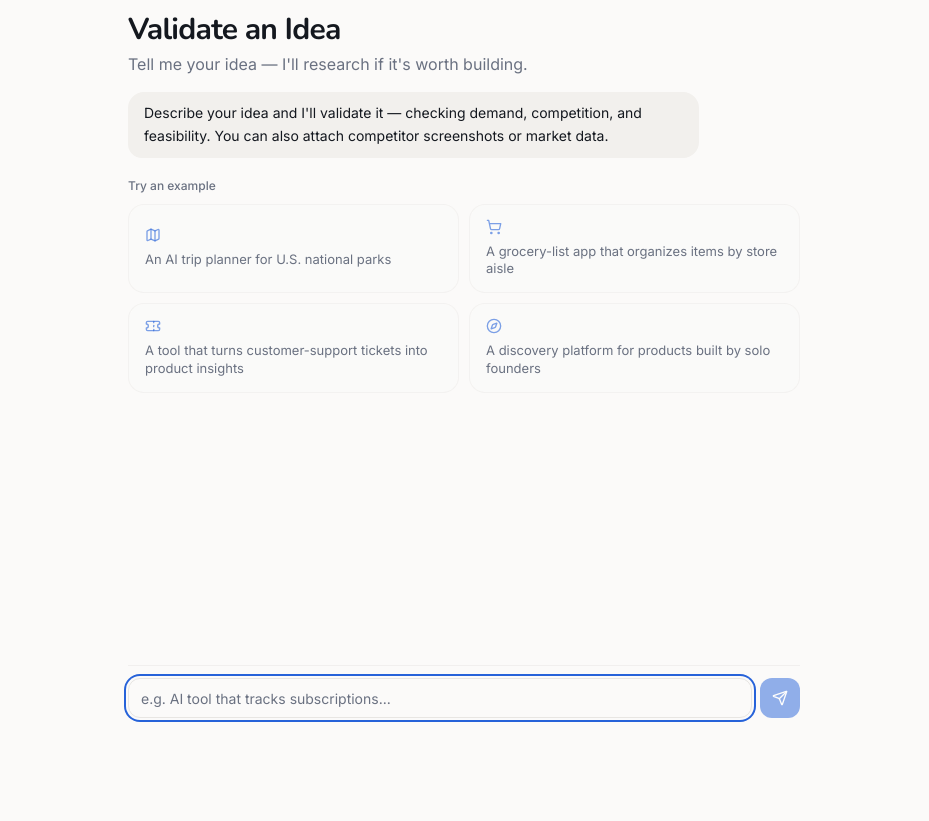
Scenario: ValidateIdea NextStepCard › shows Build primary save label
Step 1. Type "Park planner" into the field with placeholder "e.g. AI tool that tracks subscriptions..." → (440, 698), box 128,678 -> 752,718
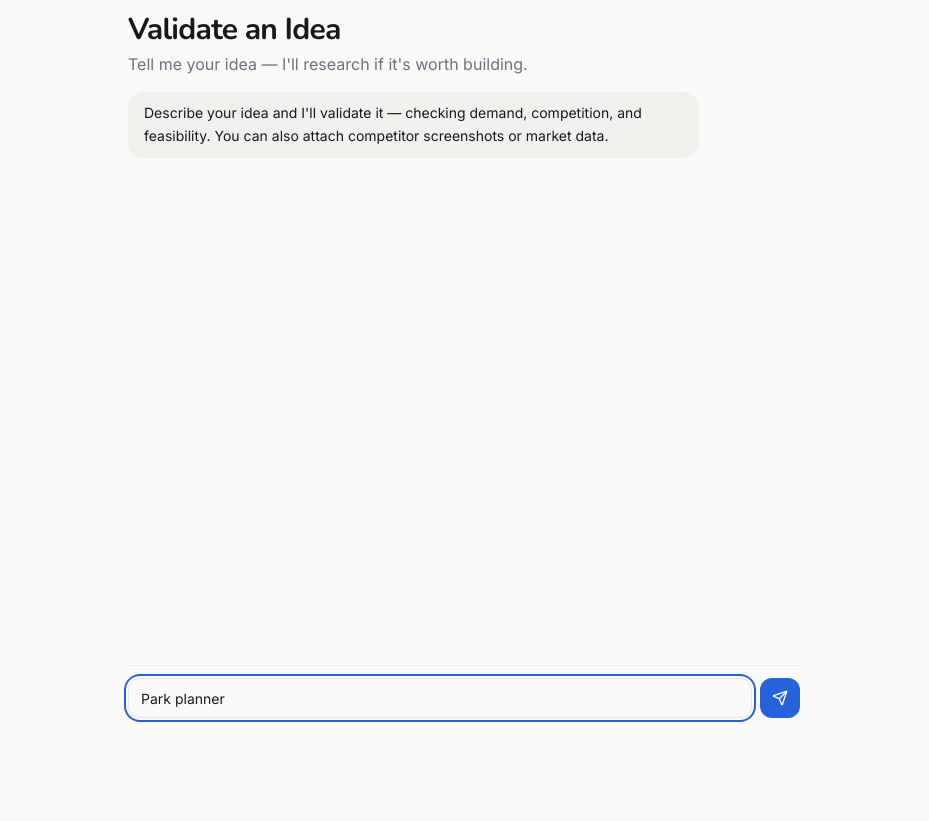
Step 2. Press Enter
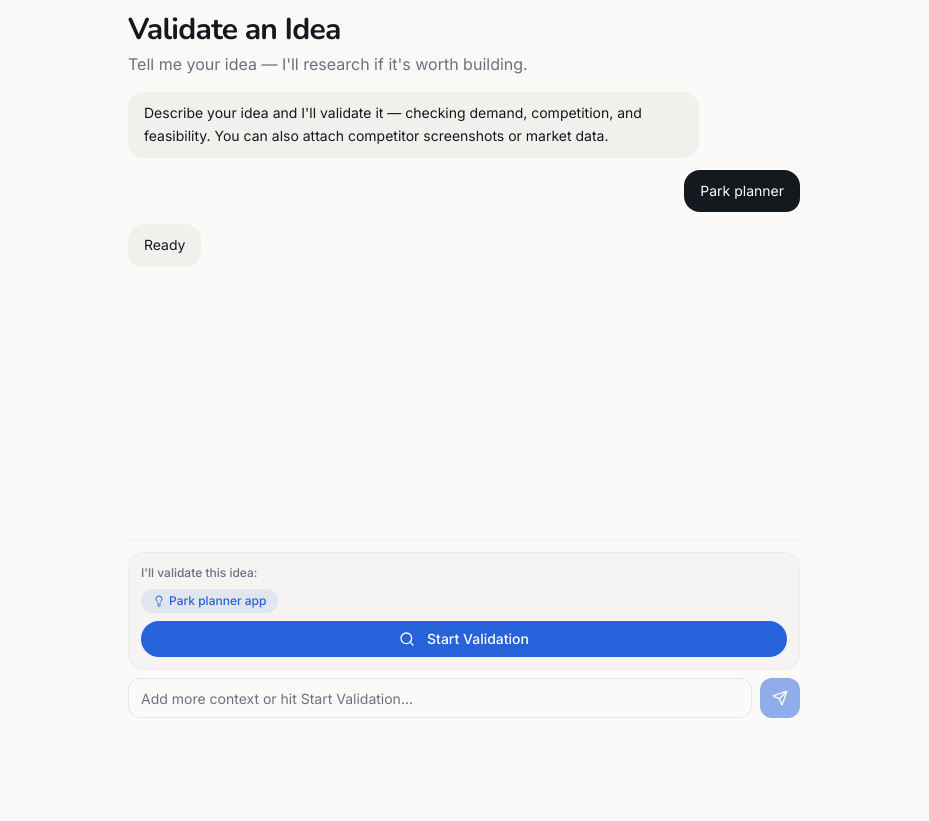
Expected: the button "Start Validation" is shown
Step 3. Click the button "Start Validation" → (464, 639), box 141,621 -> 787,657
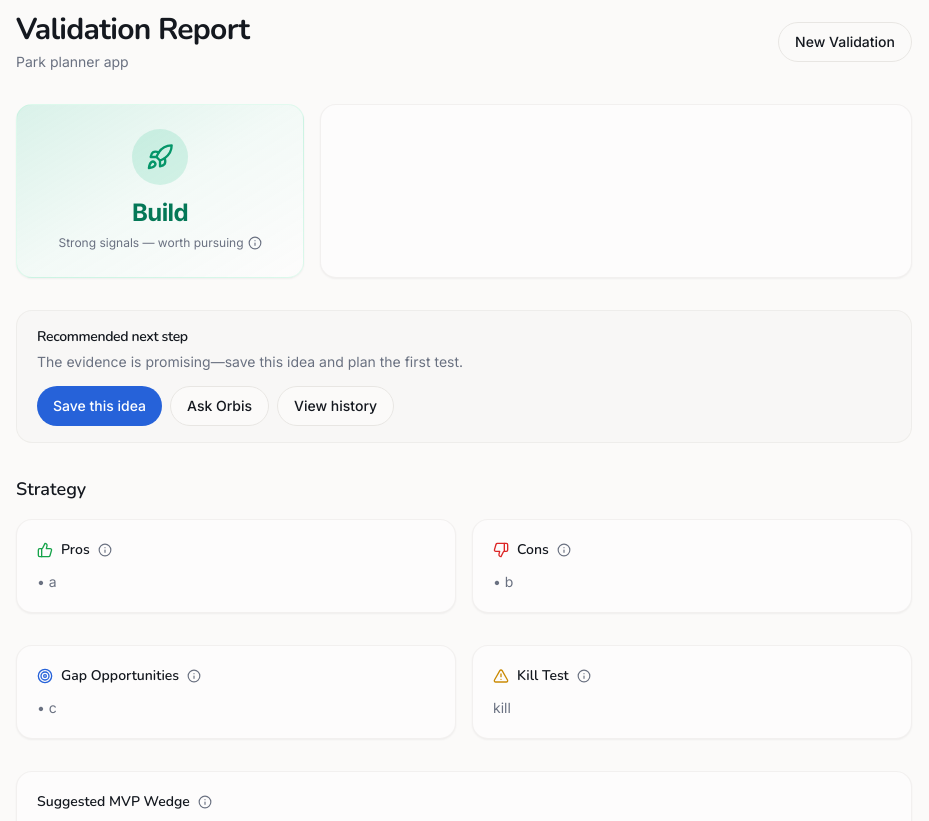
Expected: the heading "Recommended next step" is shown, 37,327 -> 188,346
Expected: the button "Save this idea" is shown, 37,386 -> 162,426
